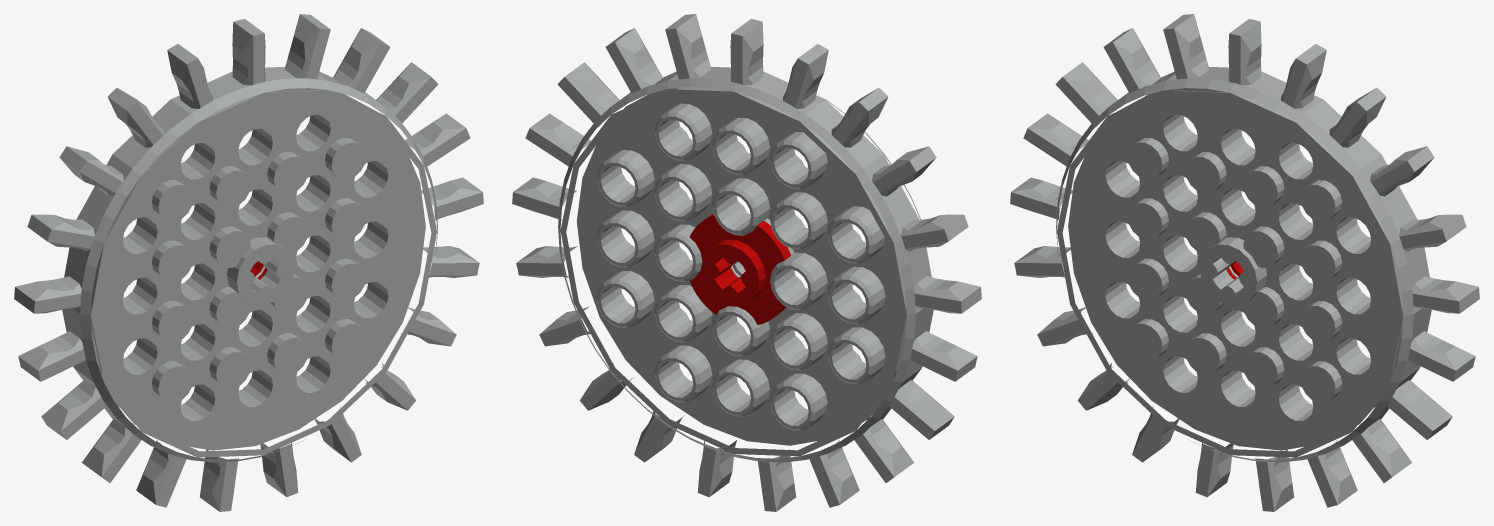
3 views of the same model, side by side, from view 1: azimuth 30°, elevation 25°; view 2: azimuth 150°, elevation 25°; view 3: azimuth 330°, elevation 25° (orthographic).
Parts seen in each view (by area): view 1: world; view 2: world; view 3: world.
Boxes of the visible parts, bbox=[...] form: world: bbox=[14, 14, 483, 511]; world: bbox=[512, 14, 981, 511]; world: bbox=[1010, 14, 1479, 511].
Size of the model in its own units: 0.0623 by 0.0622 by 0.008.
